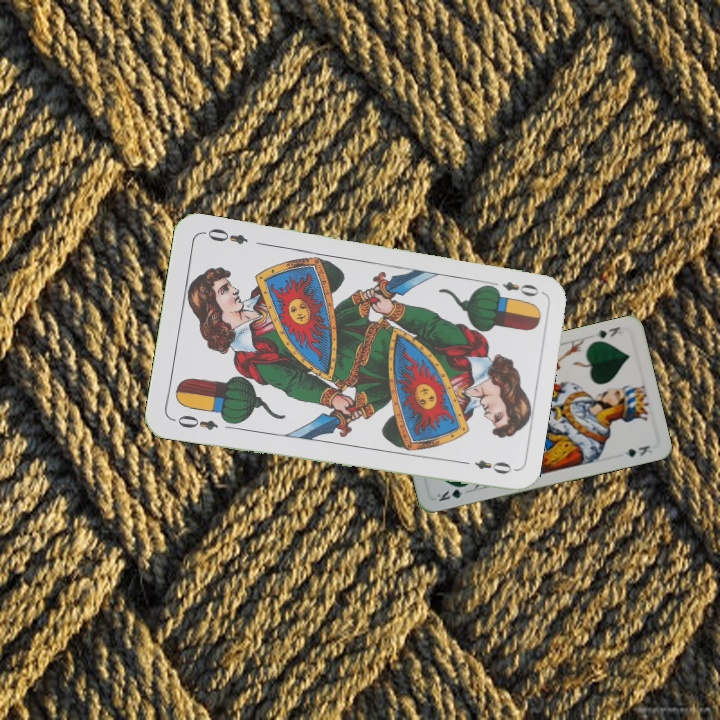EO: (484, 277, 541, 299), (173, 411, 221, 433)
GK: (433, 481, 471, 504), (591, 322, 627, 341)
